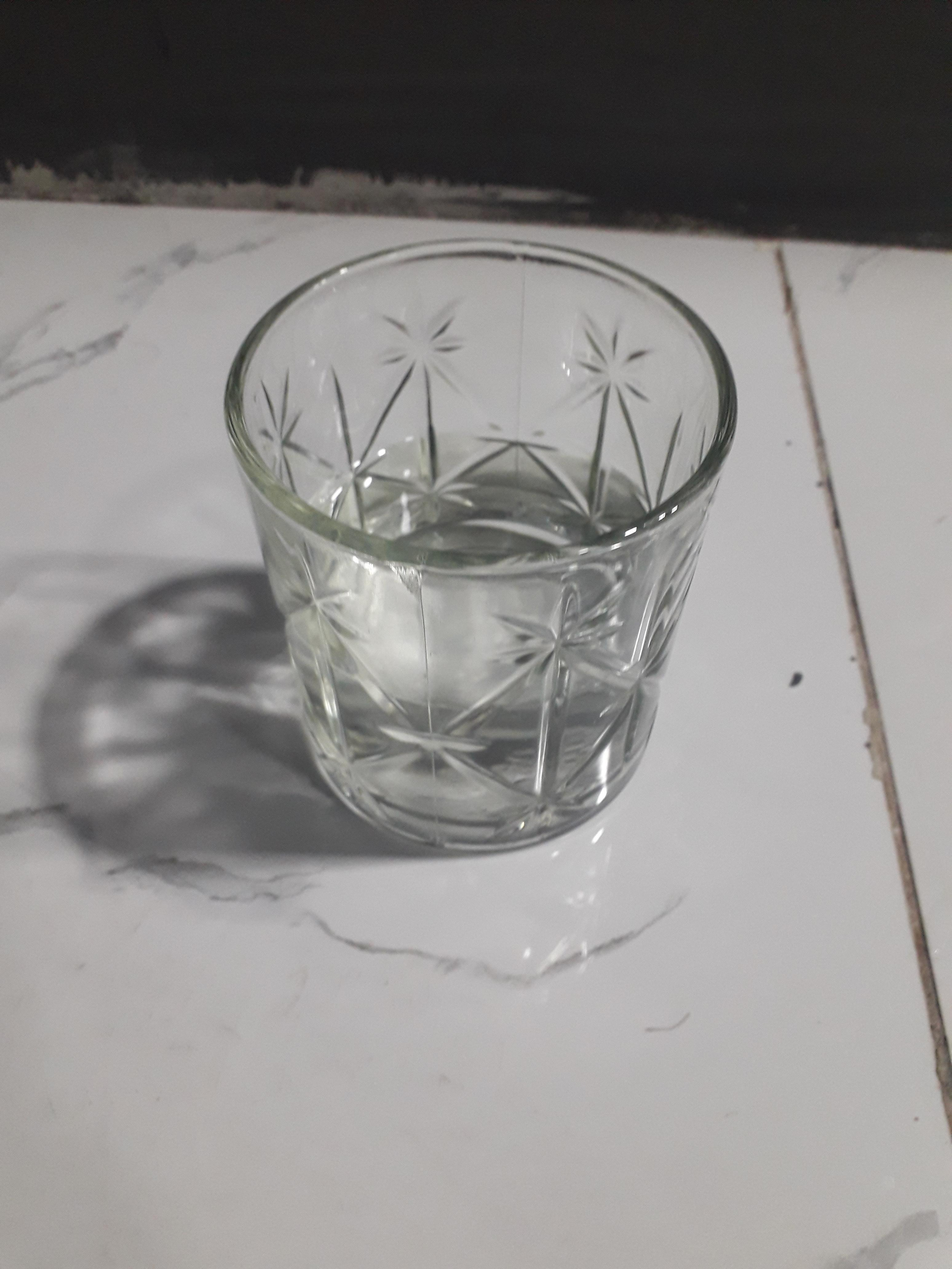glass-normal: (220, 227, 743, 865)
